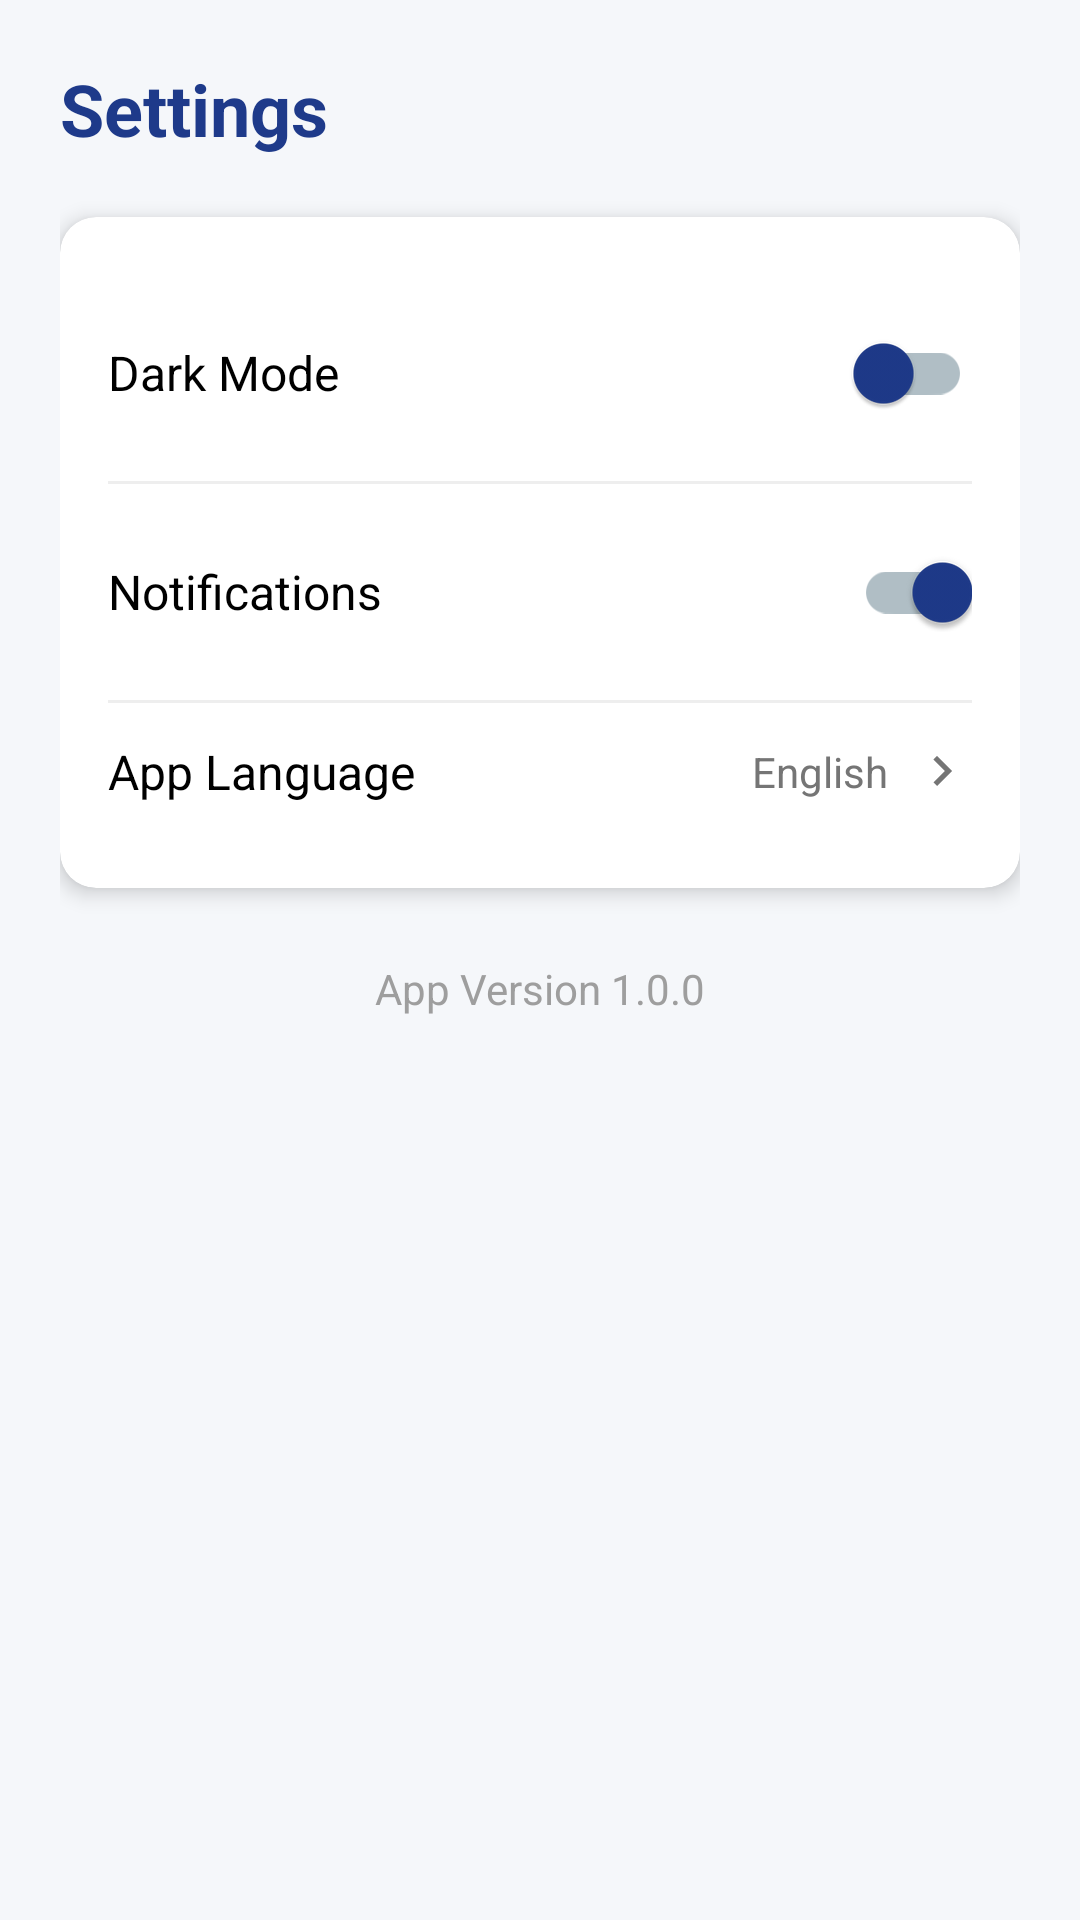

Named icons in this screenshot (1080w x 1920h) and their centers, (x=x, y=y):
arrow right: (x=942, y=771)
